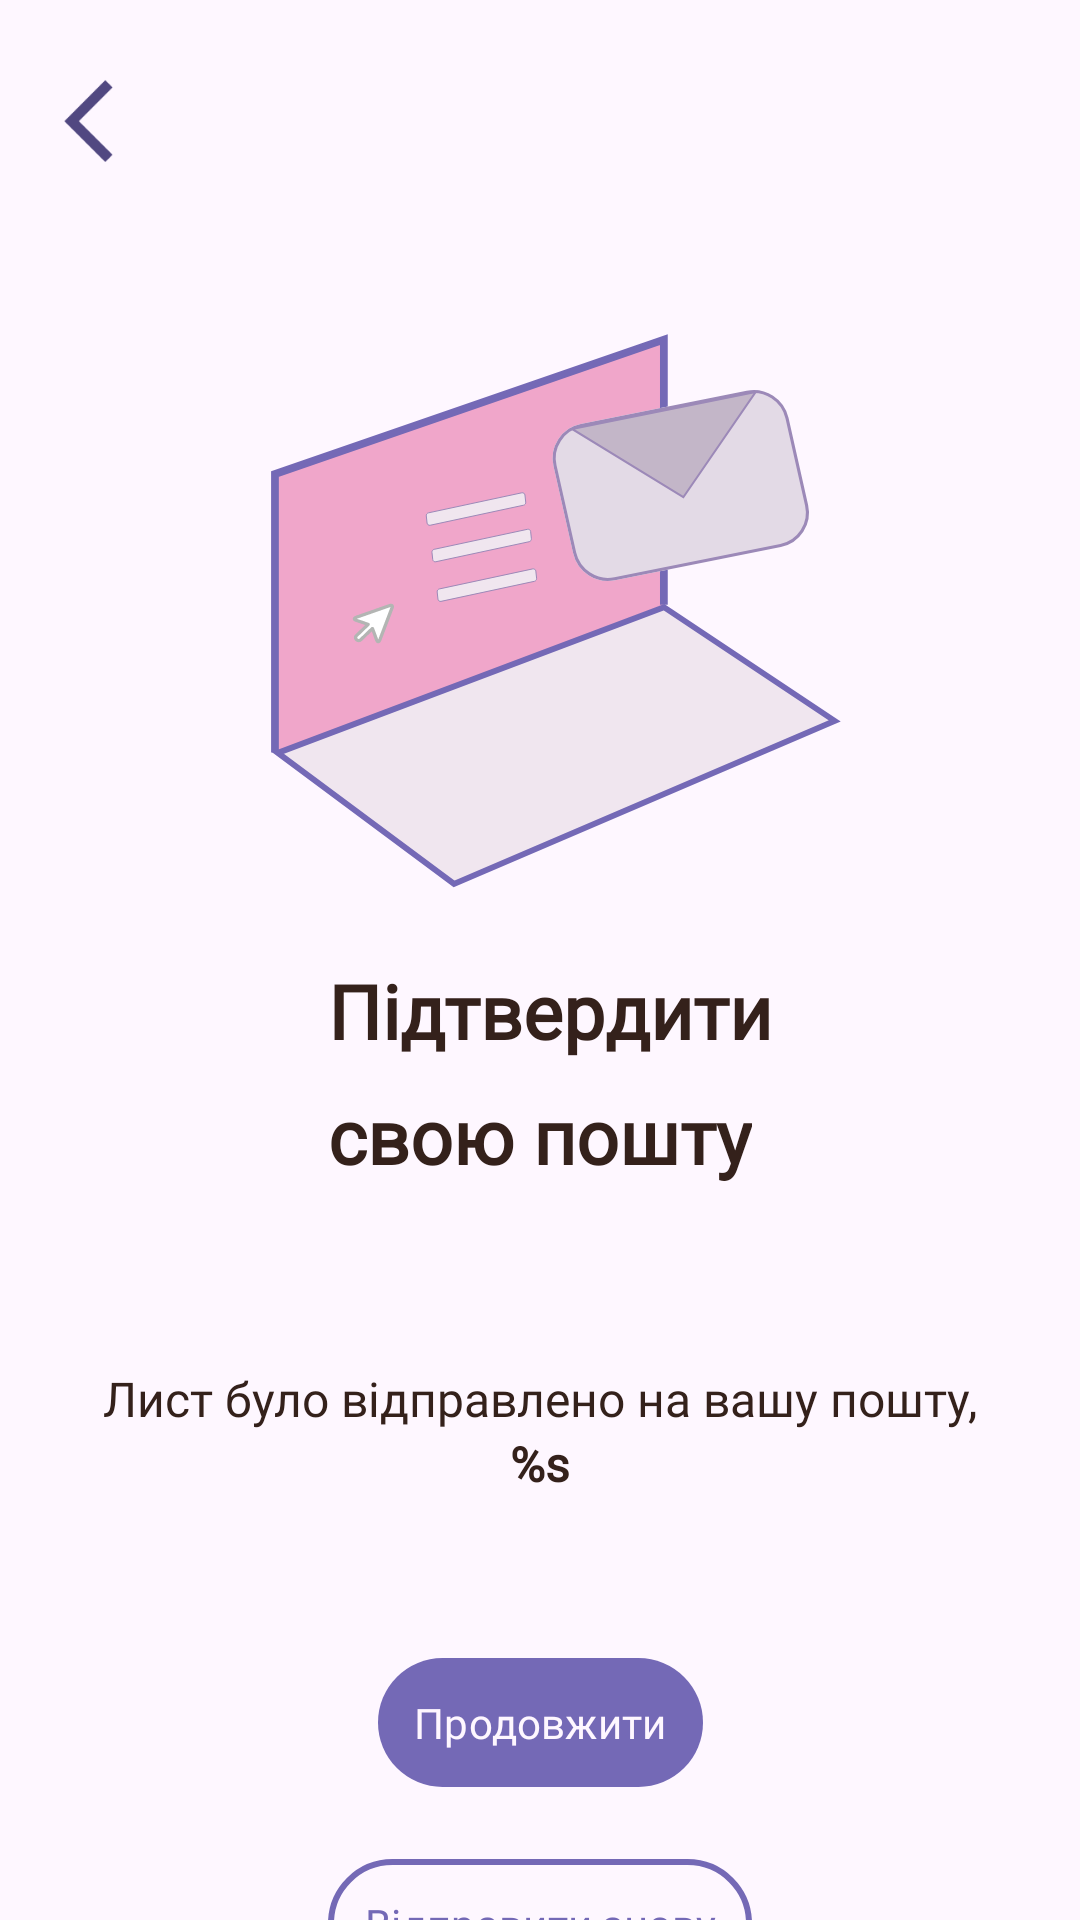

Named icons in this screenshot (1080 x 1920) and their centers, point (x, y):
Повернутись на сторінку привітання: point (88, 121)
